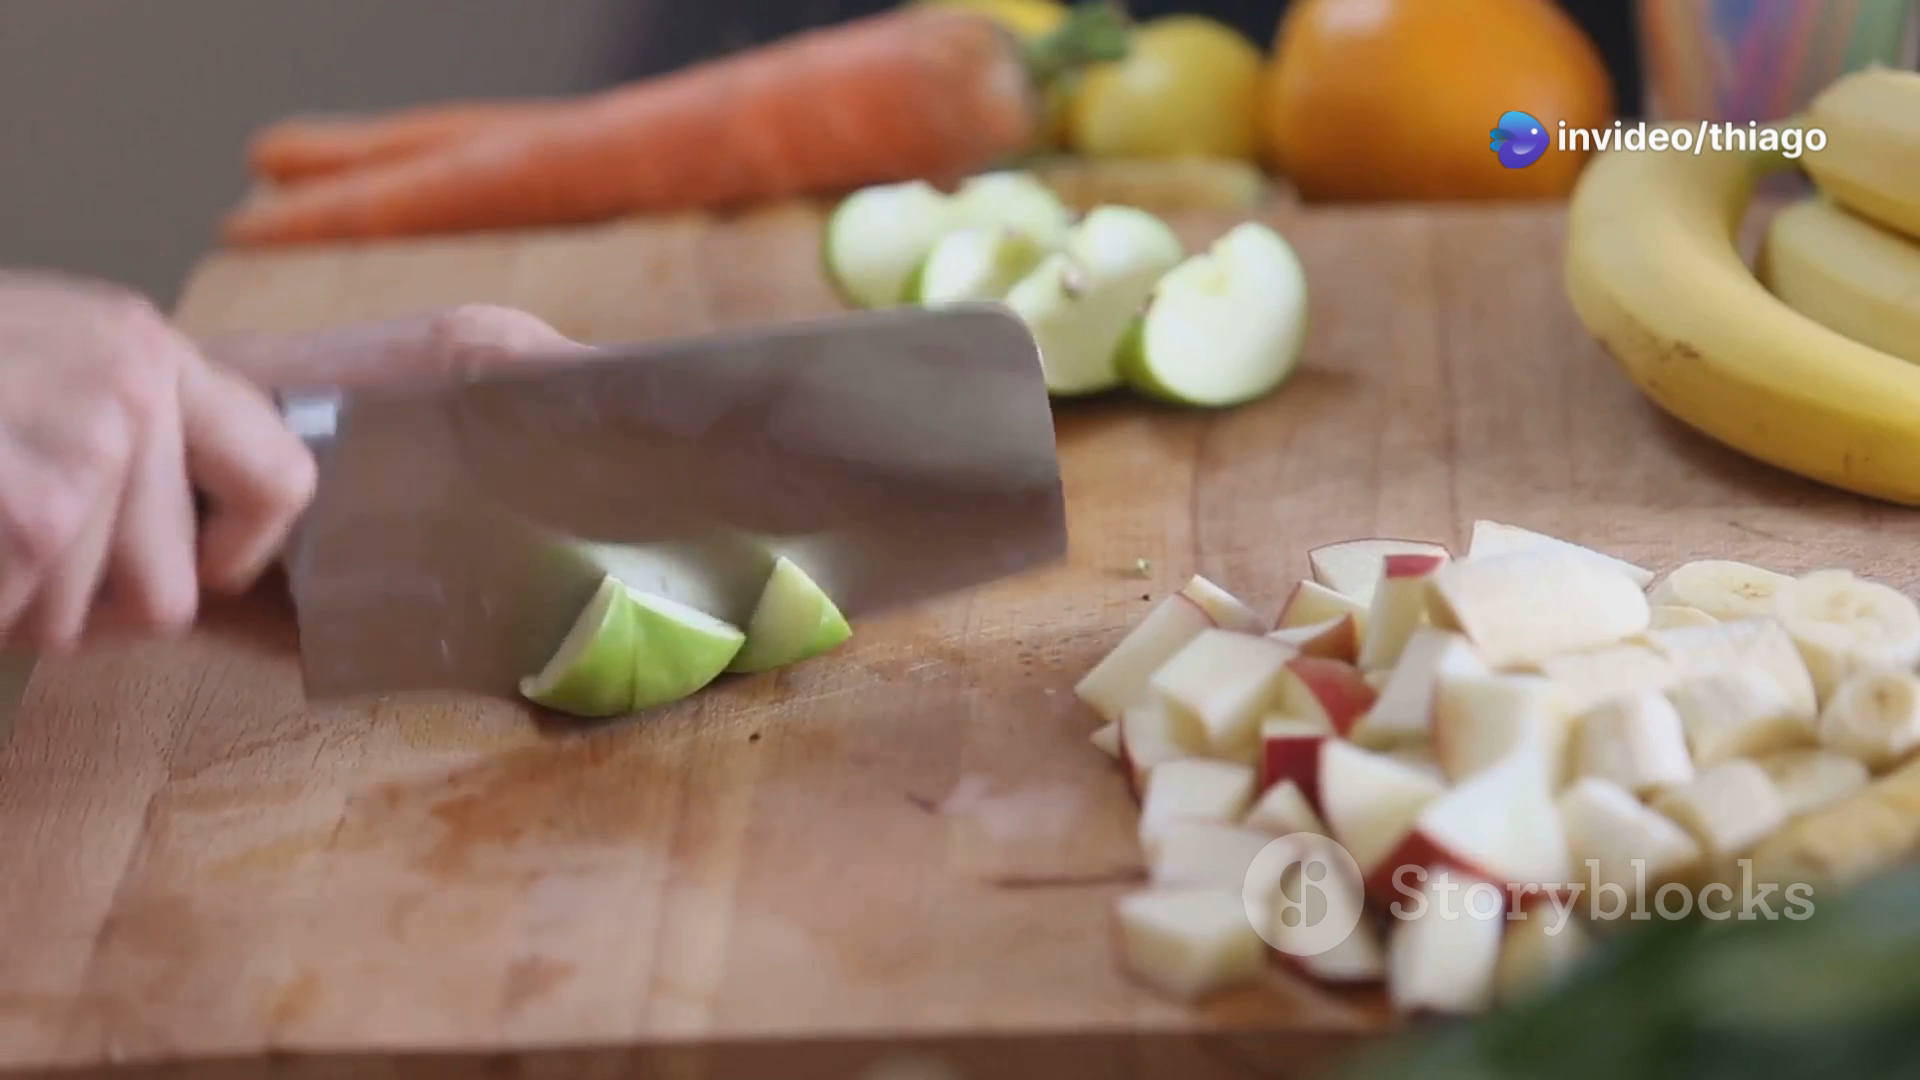cortante: (291, 297, 1068, 703)
